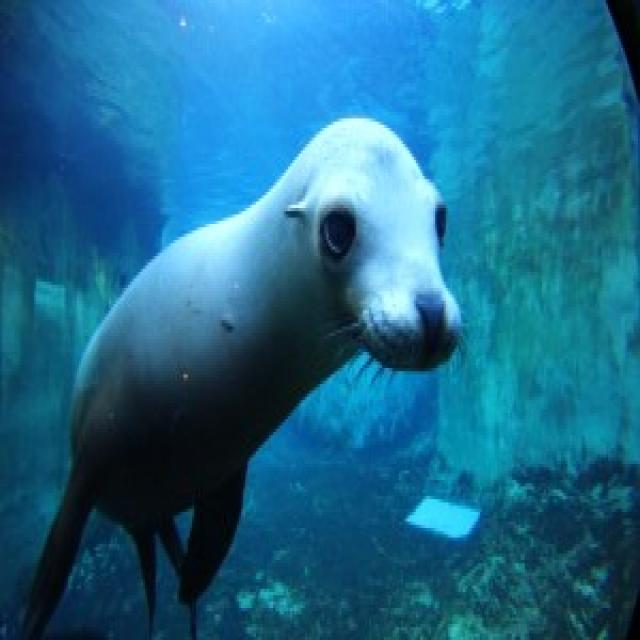Seal: (17, 108, 461, 640)
